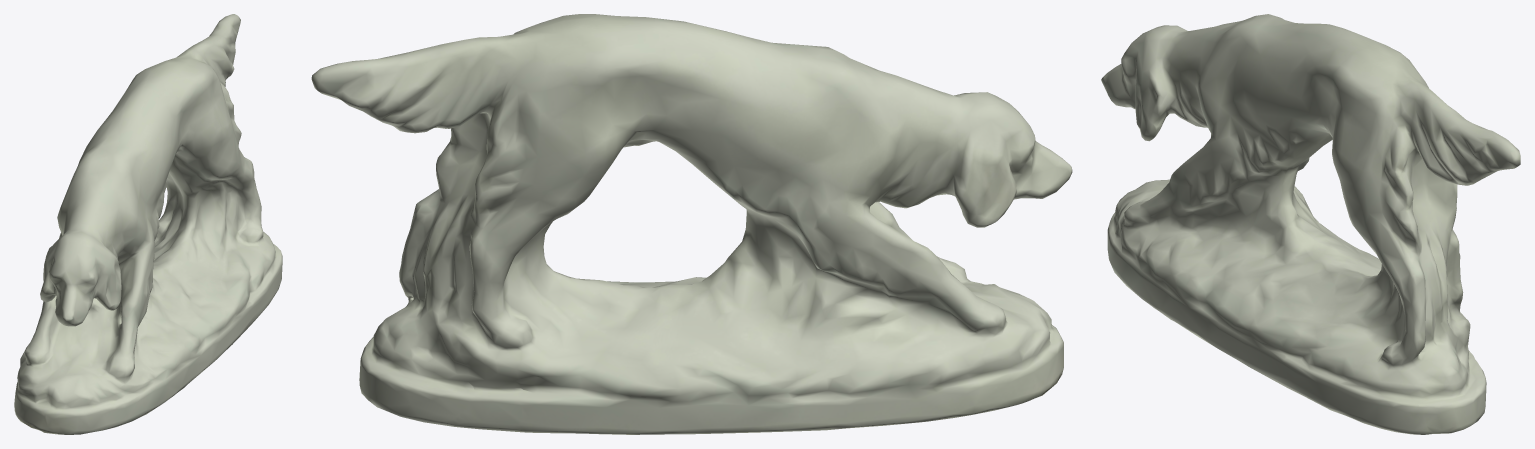
File: opti.FBX
3 renders of one model, left to right at view 1: azimuth 30°, elevation 25°; view 2: azimuth 150°, elevation 25°; view 3: azimuth 270°, elevation 25°, orthographic. The views are drawn at different scales.
Visible parts, largest first — view 1: lowPoly; view 2: lowPoly; view 3: lowPoly.
Part boxes in pixels (left/top/right/bottom): lowPoly: left=14, top=14, right=282, bottom=434; lowPoly: left=311, top=14, right=1072, bottom=434; lowPoly: left=1101, top=14, right=1520, bottom=434.
Size of the model in its own units: 2602 by 1756 by 2143.
1 material, 1 textured.
